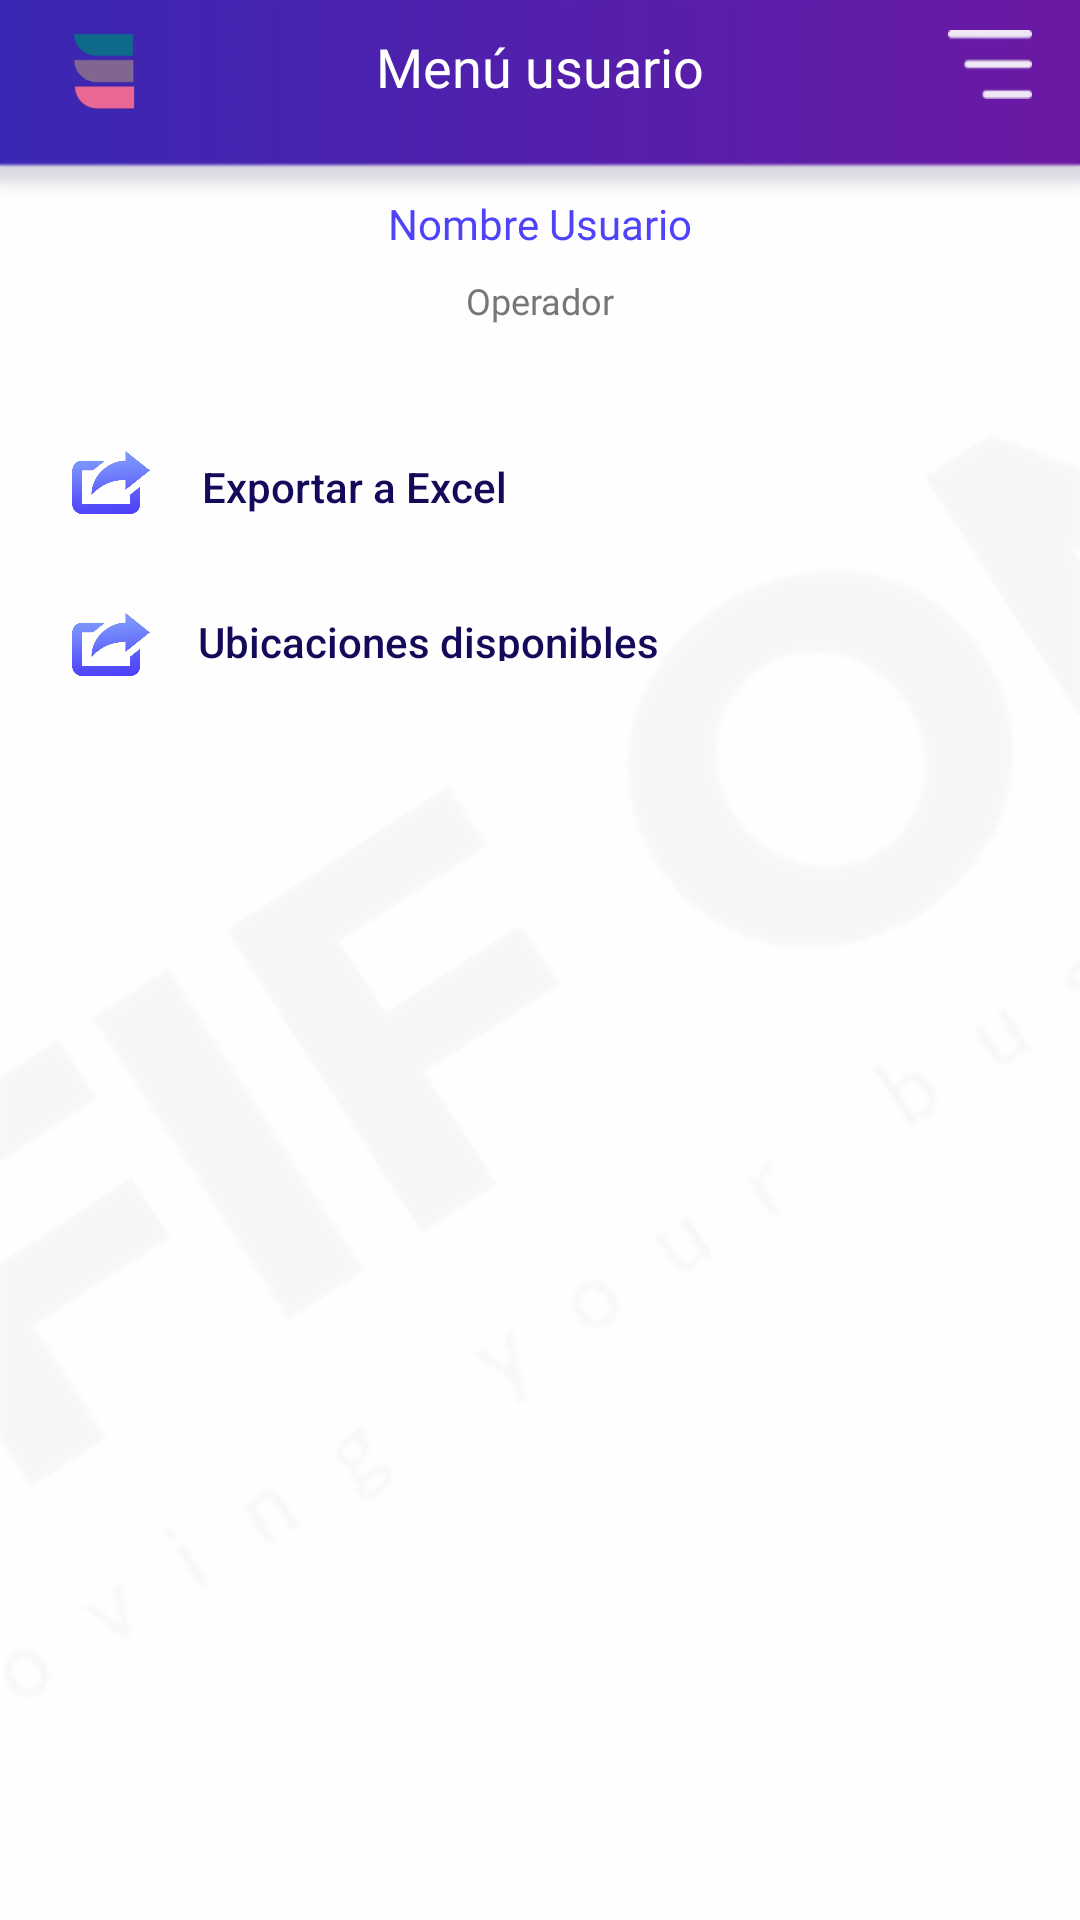

Icon bounding boxes for this 1080w x 1920h phone screenshot, format bbox=[x1, y1, x2, y2]:
imgexport: bbox=[72, 451, 150, 514], bbox=[72, 613, 150, 676]
menuburger: bbox=[948, 30, 1032, 99]
